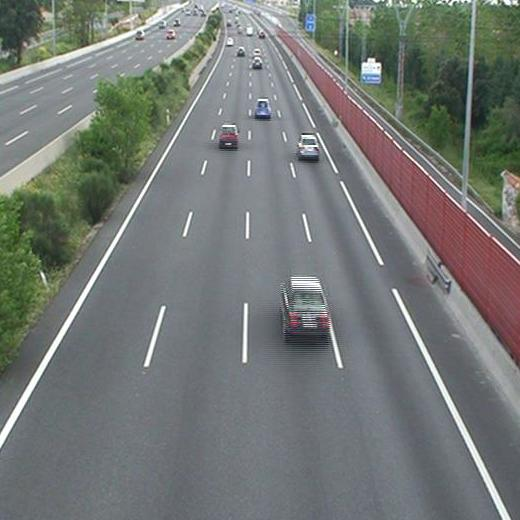car: (282, 277, 328, 334), (297, 134, 320, 158), (219, 125, 239, 147), (255, 99, 270, 116), (253, 58, 262, 68), (251, 48, 260, 56), (237, 47, 245, 56)
